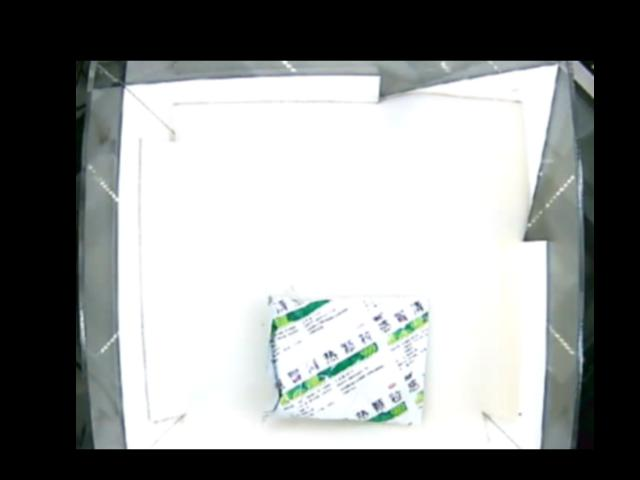Medicine: (262, 289, 428, 428)
